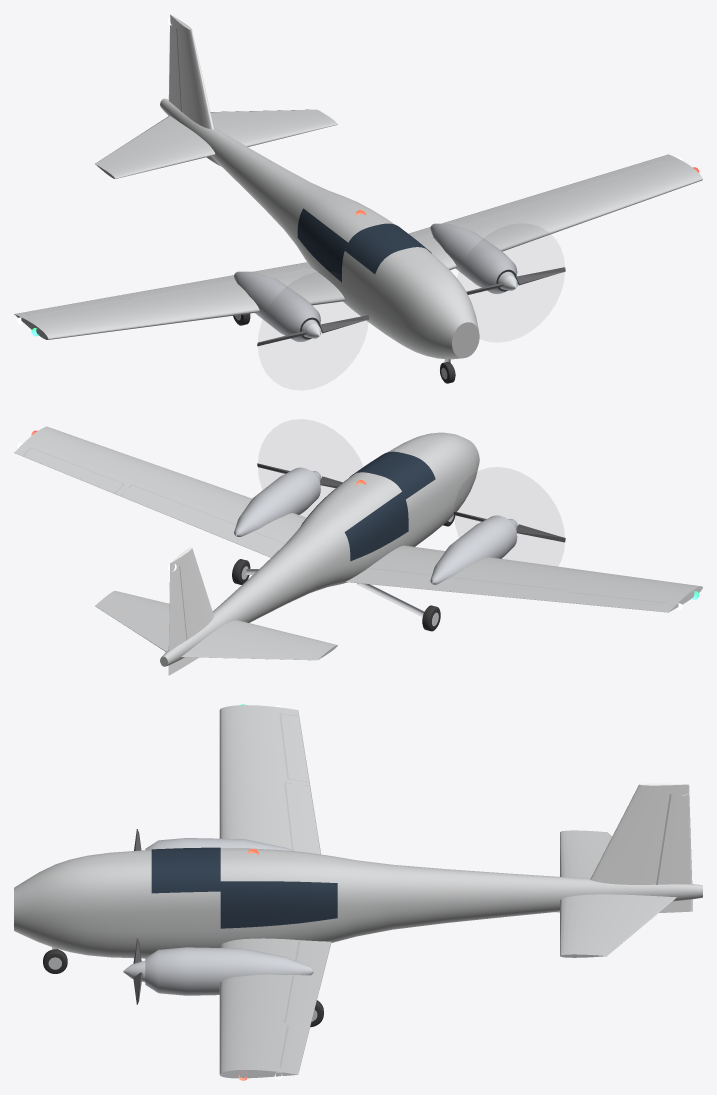
3 renders of one model, top to bottom at view 1: azimuth 30°, elevation 25°; view 2: azimuth 150°, elevation 25°; view 3: azimuth 270°, elevation 25°, orthographic. The views are drawn at different scales.
Visible parts, largest first — view 1: airframe, prop; view 2: airframe, gear, prop; view 3: airframe, gear.
Part boxes in pixels (left/top/right/bottom): airframe: left=14, top=14, right=702, bottom=359; prop: left=257, top=315, right=369, bottom=346; airframe: left=14, top=426, right=702, bottom=675; gear: left=232, top=515, right=455, bottom=631; prop: left=453, top=511, right=565, bottom=542; airframe: left=14, top=704, right=702, bottom=1080; gear: left=43, top=947, right=323, bottom=1027.
Bounding box in the file's own units: 12.62 × 3.15 × 9.9.
